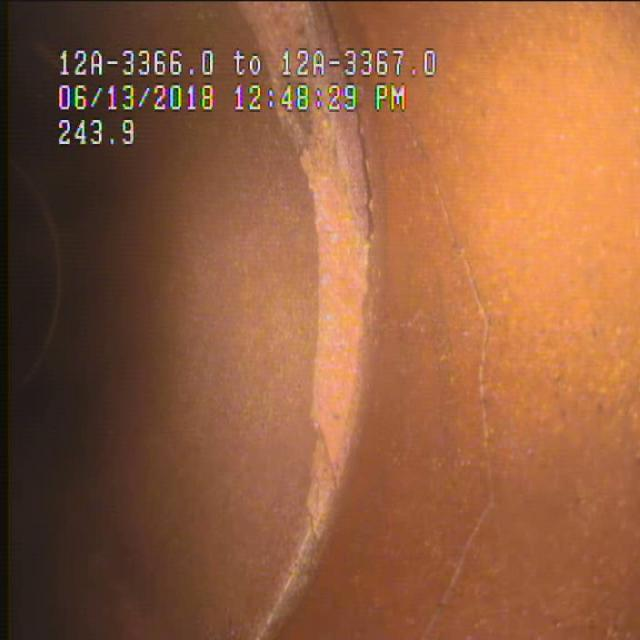Crack: (396, 140, 543, 569)
